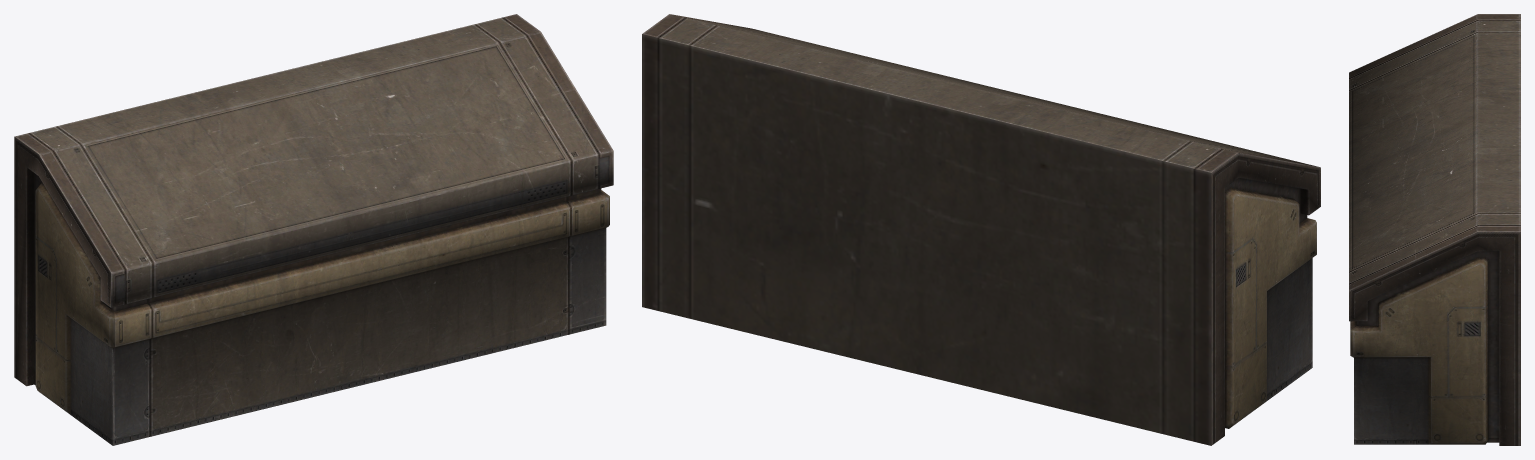
Rendered from computer_parts_chassis_default.dae.
The picture shows the model from 3 angles, left to right: view 1: azimuth 30°, elevation 25°; view 2: azimuth 150°, elevation 25°; view 3: azimuth 270°, elevation 25°; orthographic projection. The views are drawn at different scales.
Parts seen in each view (by area): view 1: computer_parts_chassis; view 2: computer_parts_chassis; view 3: computer_parts_chassis.
Part boxes in pixels (box(x1,y1,x2,y2)): computer_parts_chassis: box(14, 14, 613, 445); computer_parts_chassis: box(642, 14, 1320, 445); computer_parts_chassis: box(1349, 14, 1520, 445).
Bounding box in the file's own units: 3 × 1.38 × 1.
